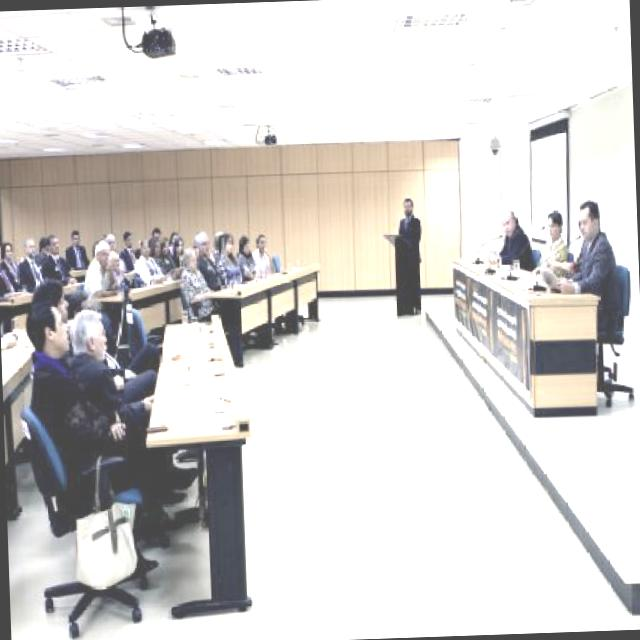Person: (0, 216, 294, 580), (550, 200, 622, 336), (390, 190, 430, 316), (489, 208, 536, 272), (534, 207, 574, 282)
